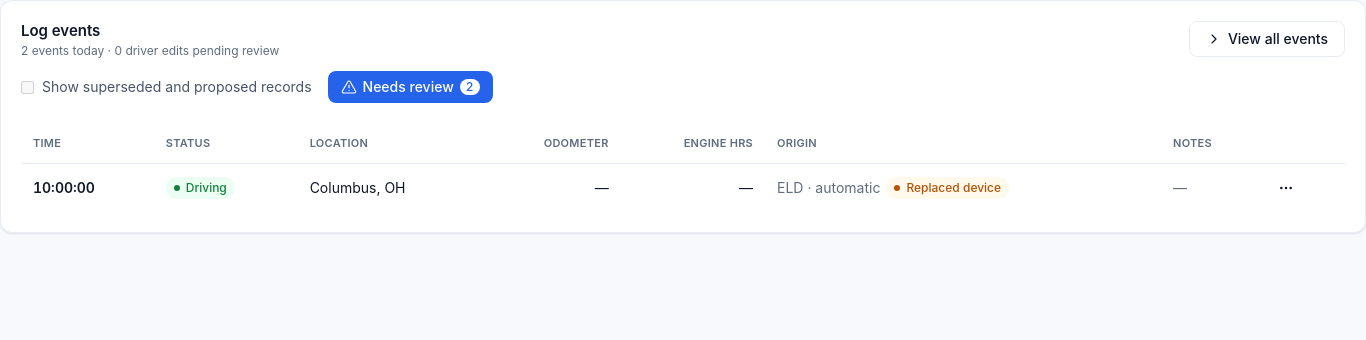
Test: LogEventsCard — replaced device records (D-163) › the active flagged record keeps the normal edit flow and no re-enter item
The width and height of the screenshot is (1366, 340).
Click the button named "Row actions" at (1286, 188), box [1270,172,1302,204]
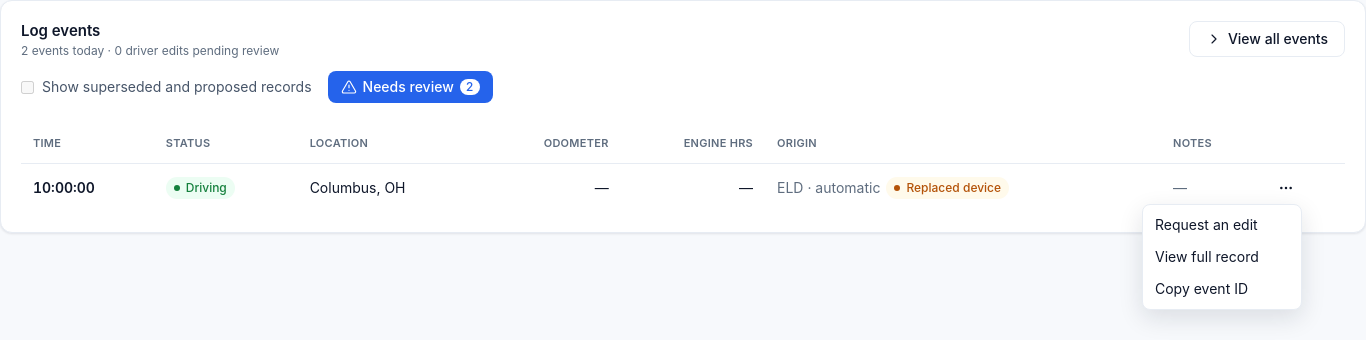
Expected: the button "Request an edit" is shown, [1147,209,1297,241]
